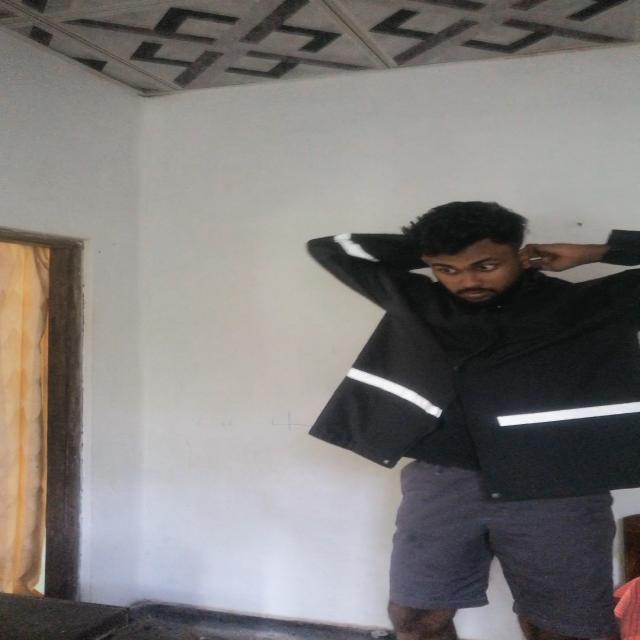Jacket_Wearer: (308, 227, 640, 506)
